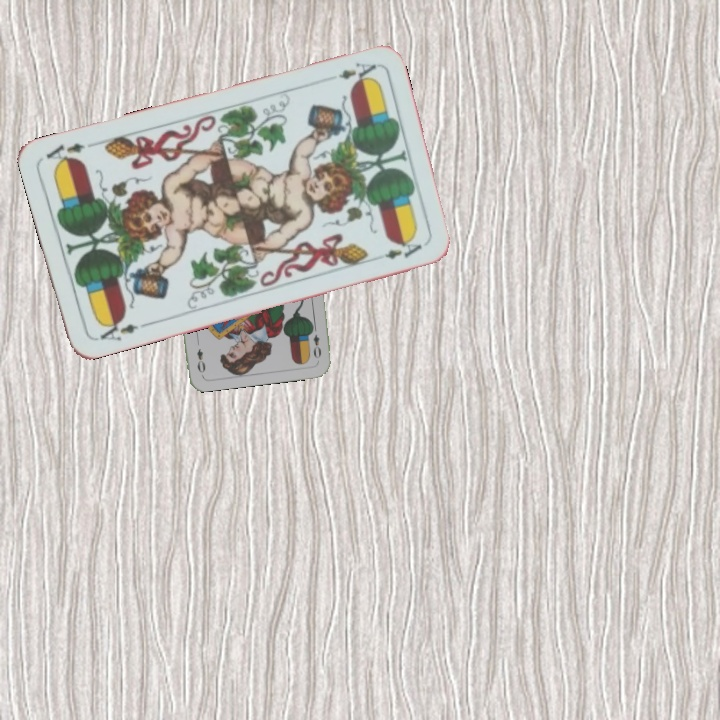EA: (91, 314, 149, 344), (334, 58, 379, 86)
EO: (306, 321, 324, 361)
